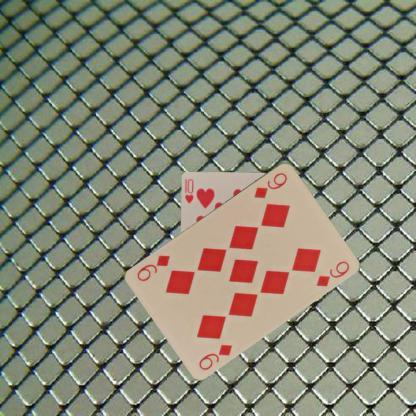10h: (182, 176, 194, 205)
9d: (196, 341, 233, 373), (252, 170, 288, 199)
